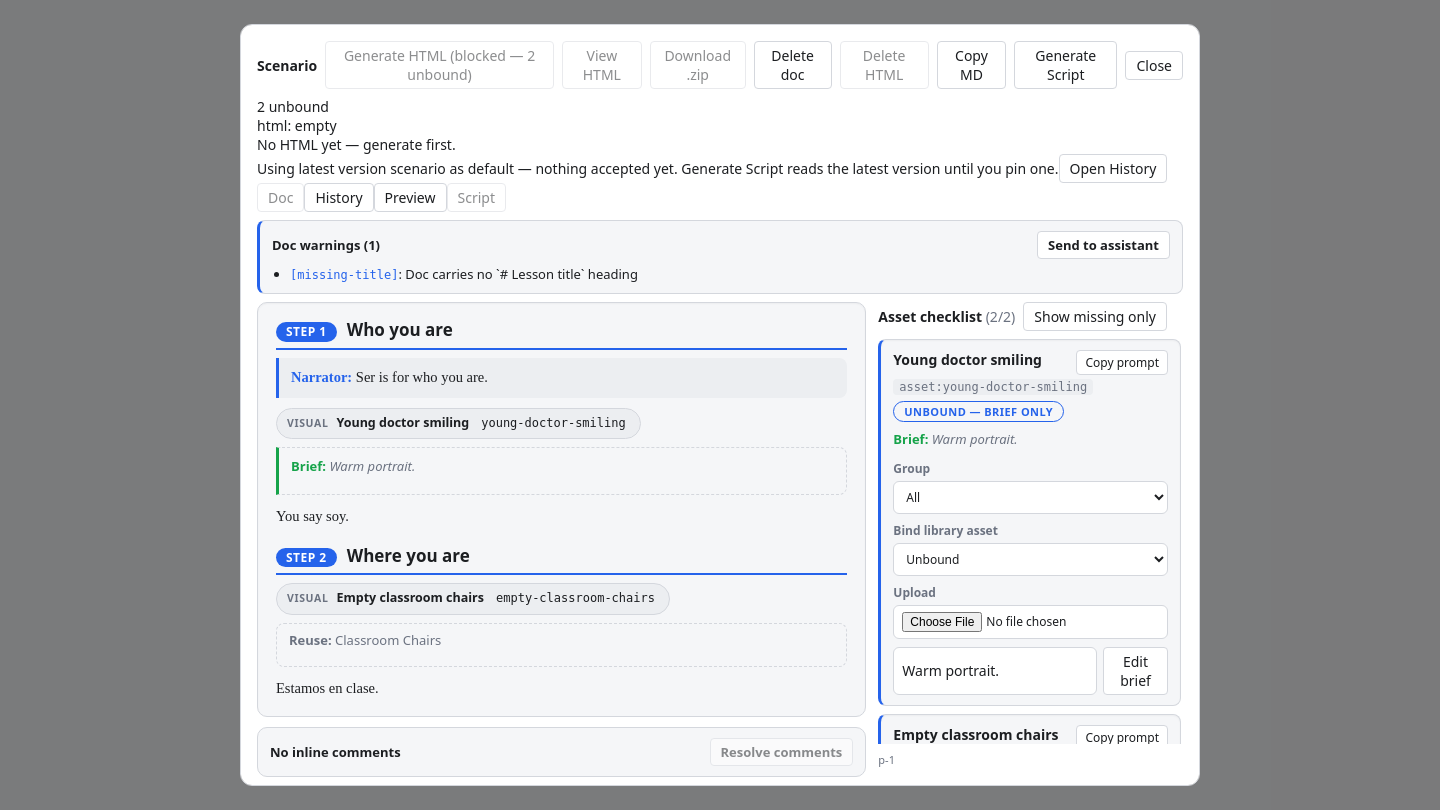
Test: AiScenarioModal doc-first blocking checklist (issue #463) › Copy MD copies the current markdown to the clipboard
Expected: the element with test id "ai-scenario-modal-doc" is shown, [257,302,866,717]
Click the button with test id "ai-scenario-copy-md" at (971, 65), box [937,41,1006,89]
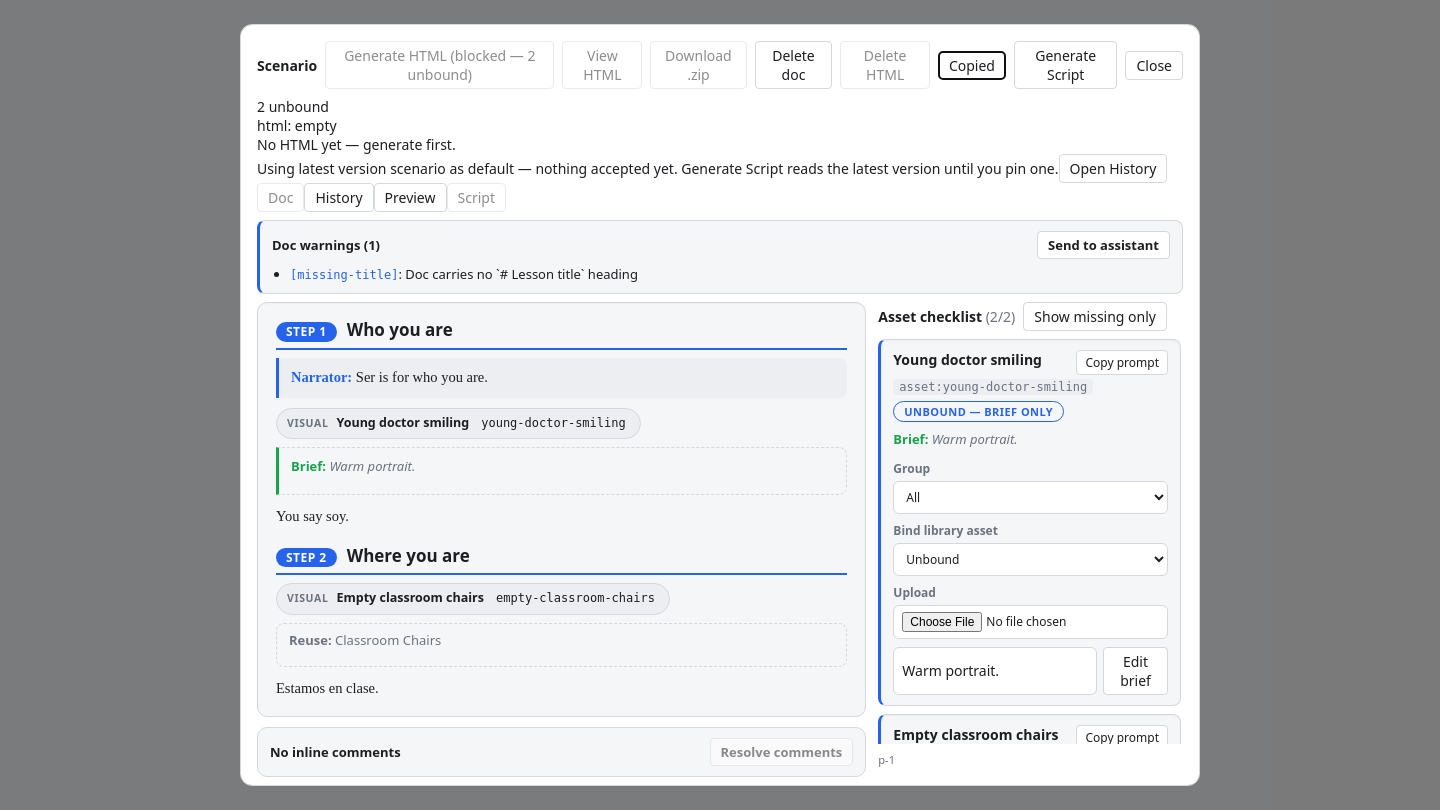
Now the button "Copied" is shown, box [938,50,1006,80]
